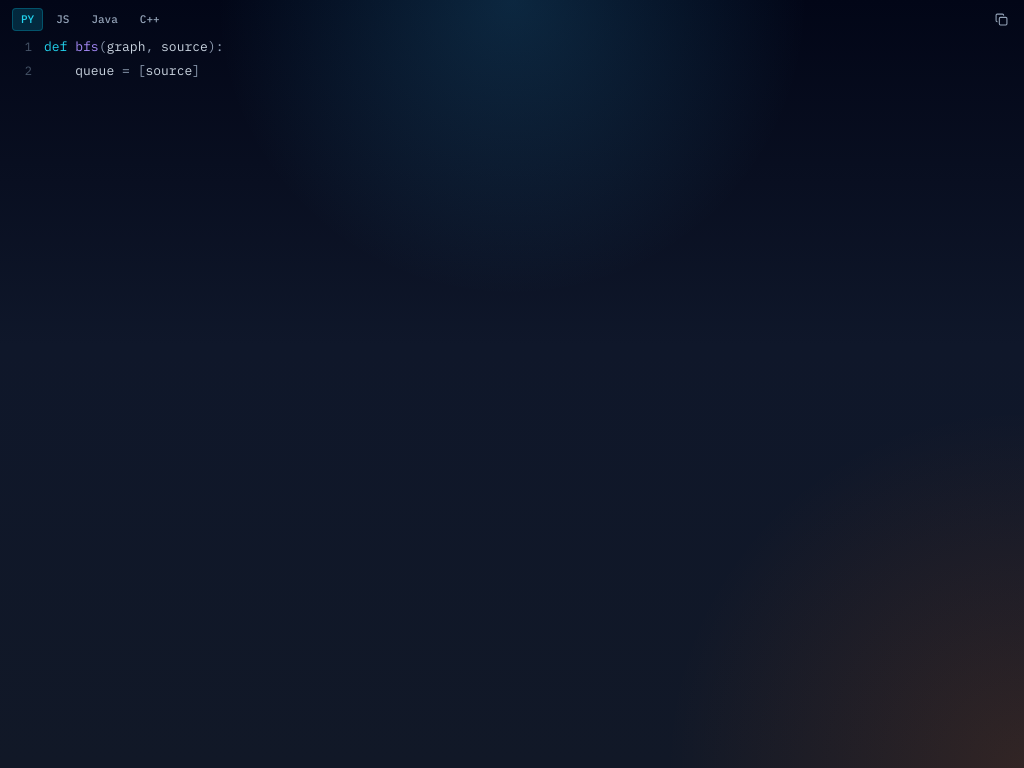
Test: CodeView › switches language when a language button is clicked
Click the button "JS": (63, 19) [47,8,78,30]
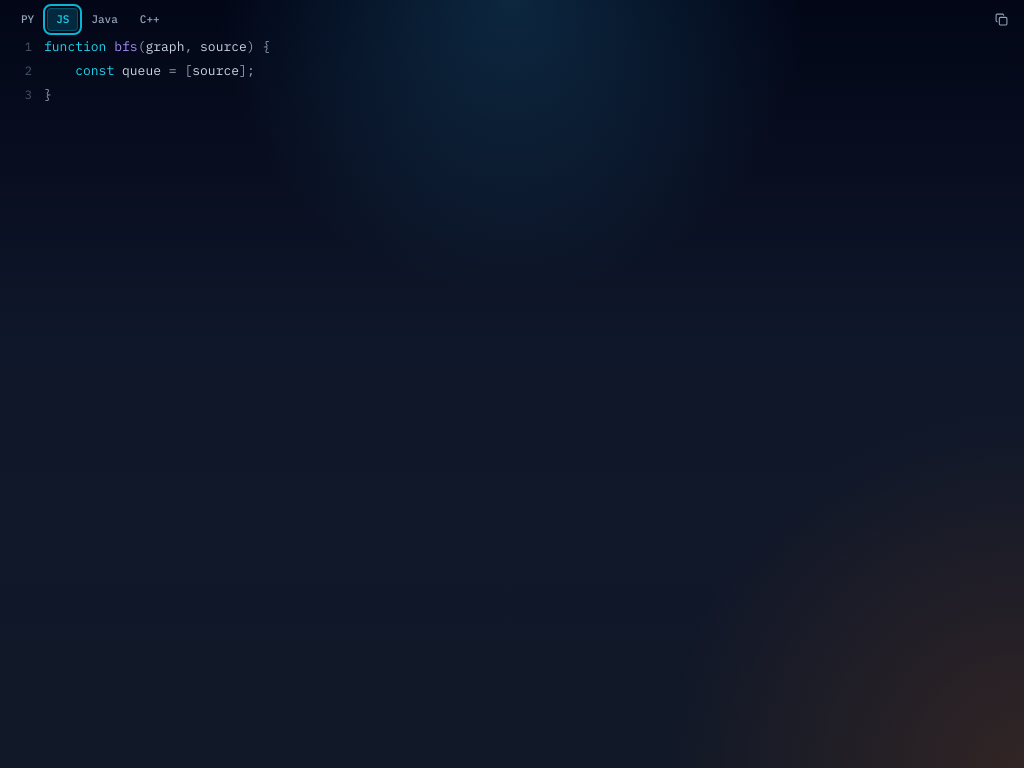
Check: the element that starts with "function" shows "bfs", box [114,38,138,54]
Check: the element that starts with "function" is shown, box [44,38,106,54]
